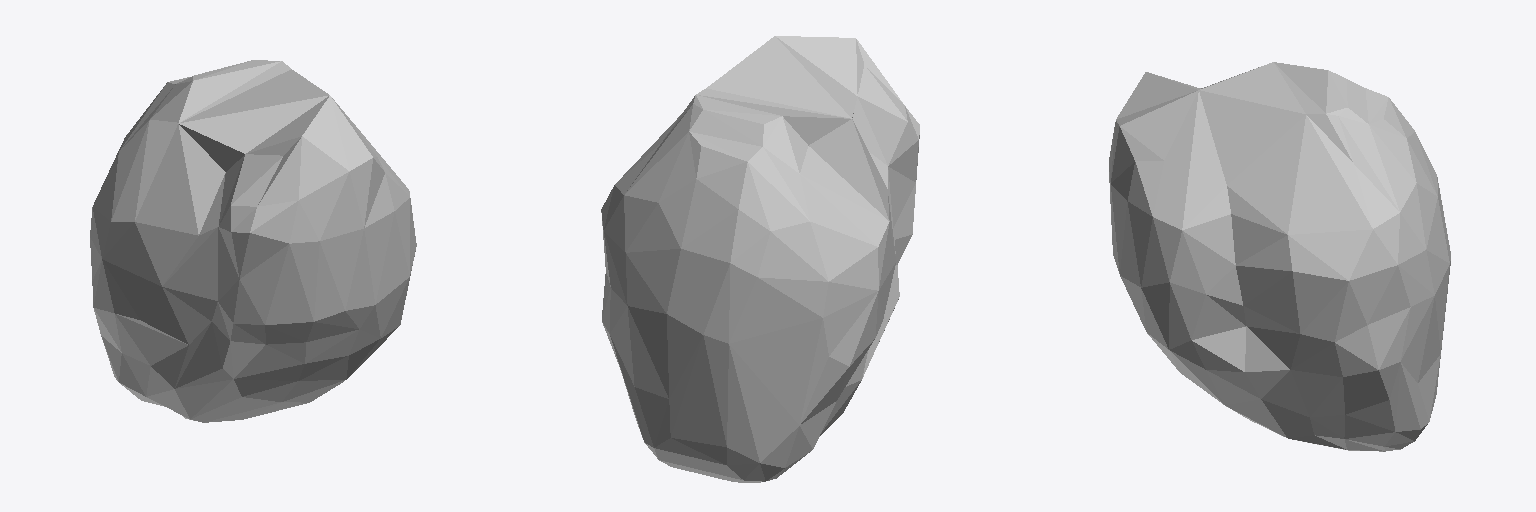
The model's file is heart_no_valves.obj.
The picture shows the model from 3 angles: view 1: azimuth 30°, elevation 25°; view 2: azimuth 150°, elevation 25°; view 3: azimuth 270°, elevation 25°; orthographic projection.
Visible parts, largest first — view 1: Heart_Cube.000; view 2: Heart_Cube.000; view 3: Heart_Cube.000.
Part boxes in pixels (x1,y1,x2,y2): Heart_Cube.000: (90, 60, 416, 422); Heart_Cube.000: (601, 36, 919, 482); Heart_Cube.000: (1109, 62, 1450, 451).
Size of the model in its own units: 1.99 by 2.62 by 2.23.